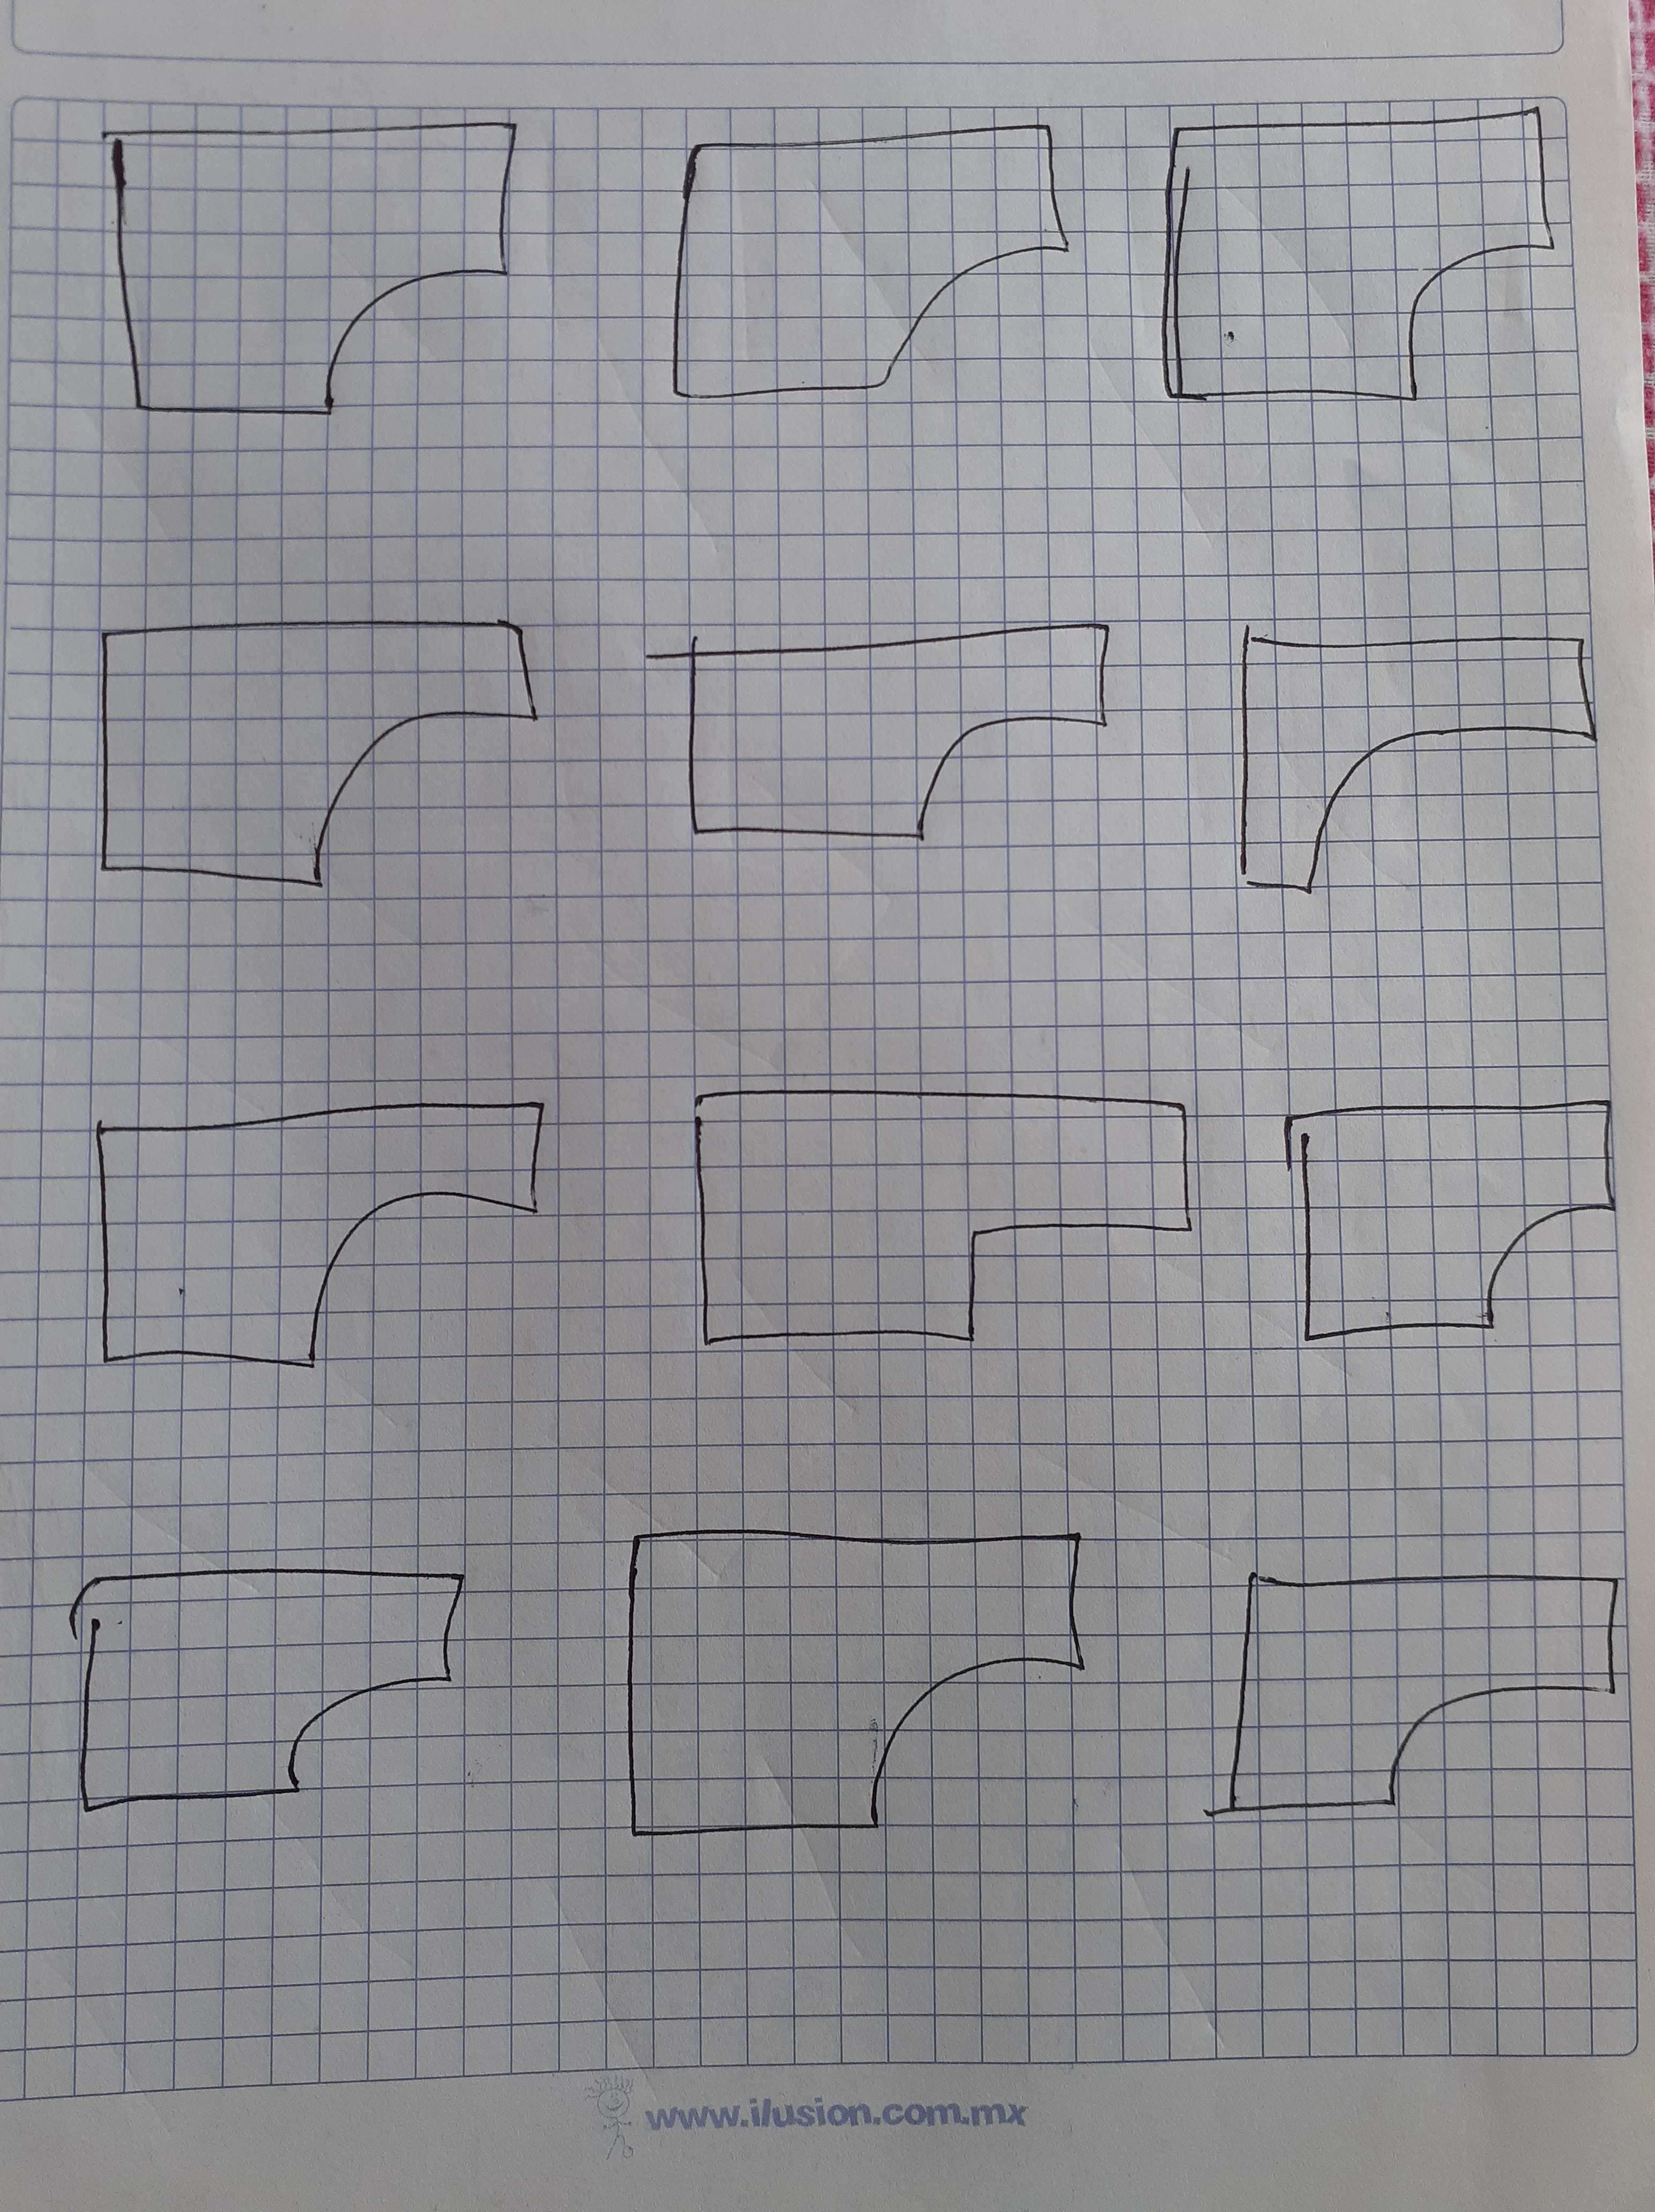print: (595, 1494, 1093, 1889), (661, 1050, 1208, 1401), (45, 584, 562, 921), (1140, 68, 1566, 473), (1201, 1480, 1624, 1877), (85, 90, 530, 447), (71, 1069, 555, 1394), (38, 1524, 475, 1863), (617, 606, 1147, 884), (671, 101, 1064, 443), (1248, 1056, 1629, 1397), (1224, 584, 1615, 905)
